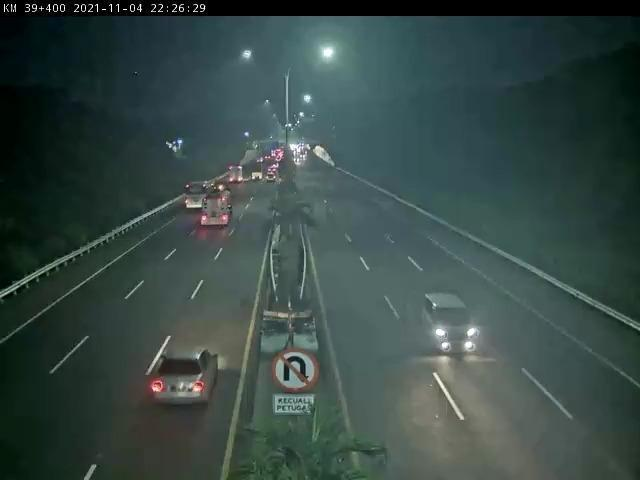bus: (182, 175, 221, 215)
car: (404, 286, 511, 389), (146, 330, 238, 422)
truck: (200, 185, 236, 229), (223, 163, 248, 192)
